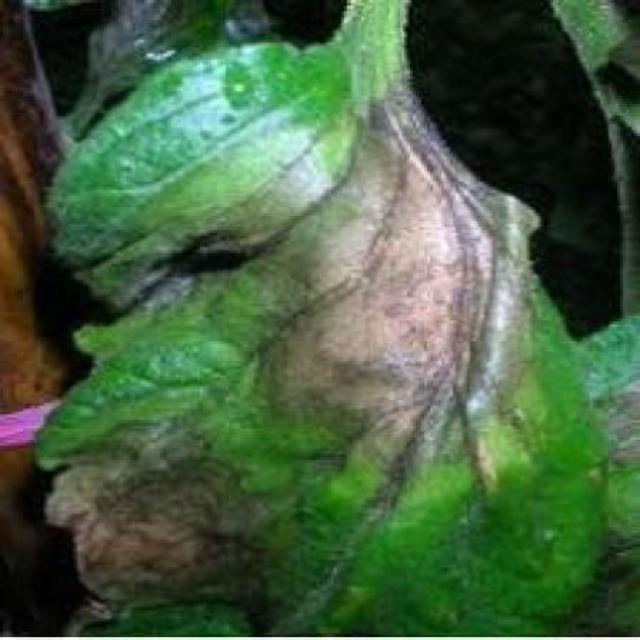Late Blight: (34, 31, 609, 634)
